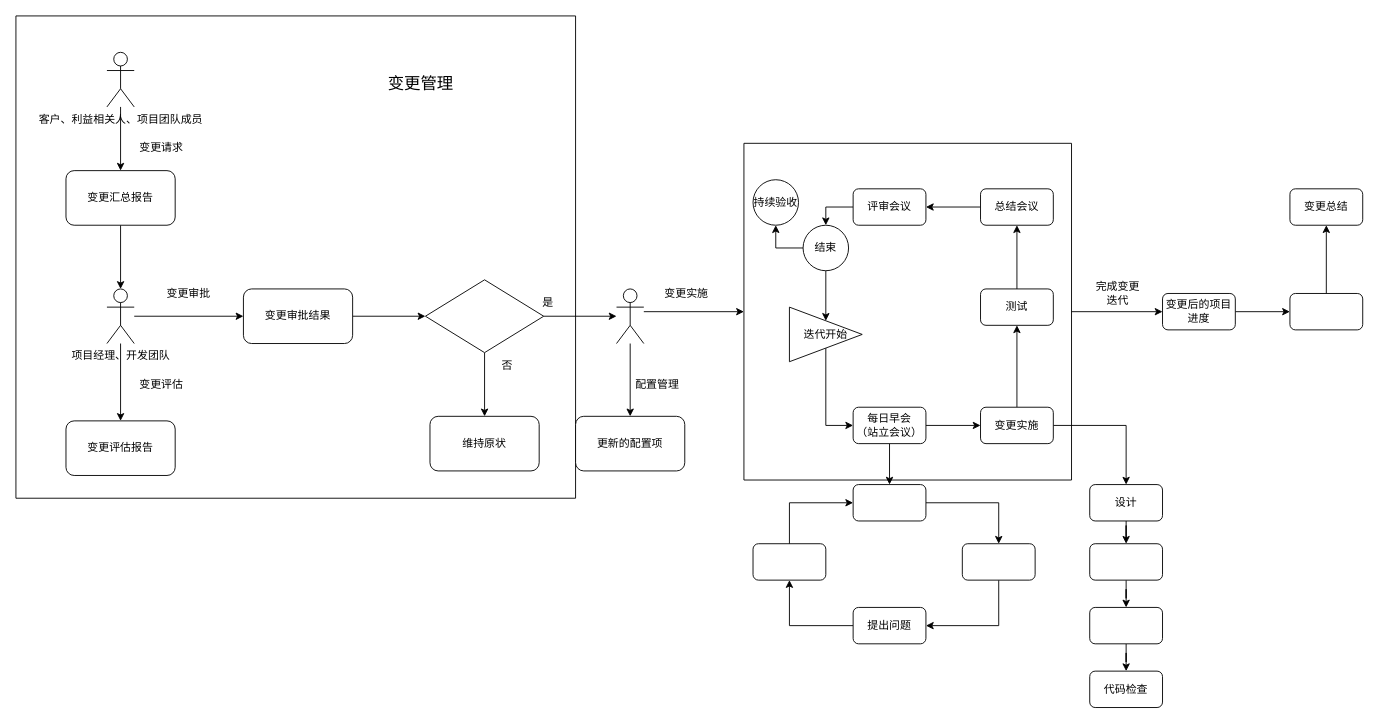
Image size: 1379x723. Some labels were removed from this diagram. Each missing label, with the box of its shape:
今日任务: (961, 543, 1035, 580)
发布版本 （用户交付）: (1289, 293, 1363, 330)
开发: (1089, 543, 1163, 580)
开发团队、测试团队: (616, 288, 644, 344)
提交代码: (1089, 607, 1163, 644)
昨日复盘: (852, 484, 926, 521)
是否批准？: (425, 279, 544, 353)
迭代开发管理: (743, 142, 1072, 480)
问题记录: (752, 543, 826, 580)
